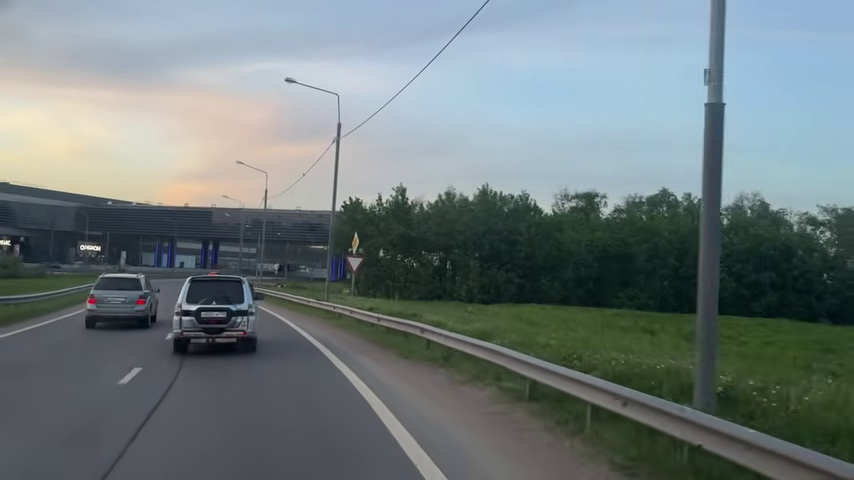apagada: (282, 74, 300, 90)
